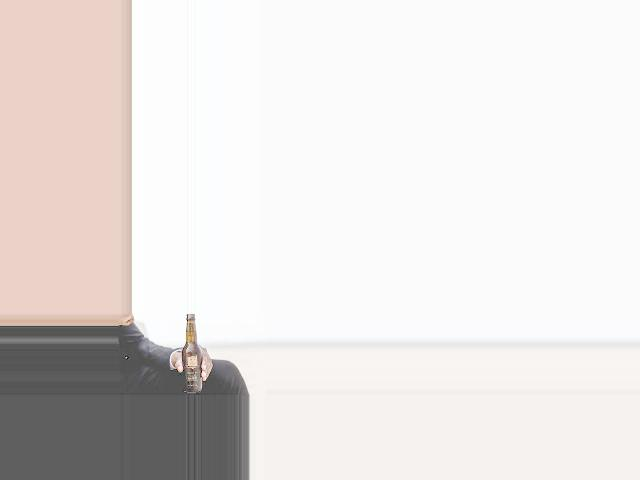beer: (182, 314, 203, 393)
